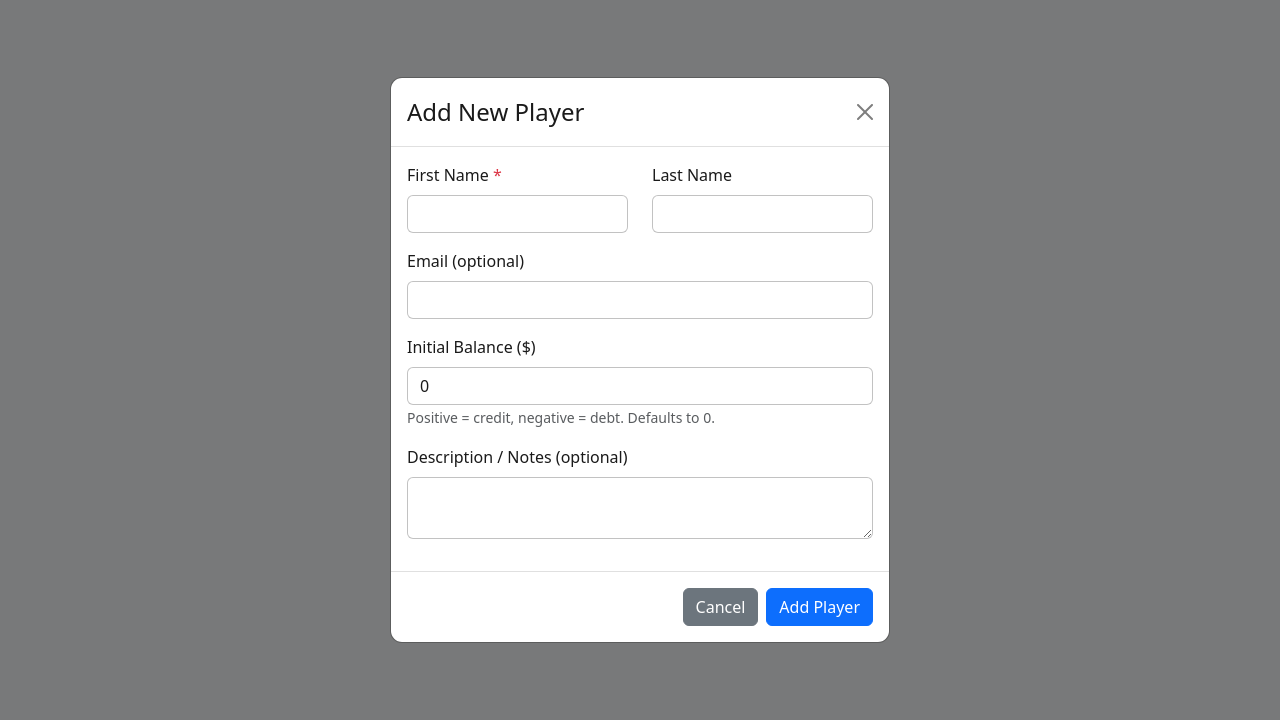
Test: AddPlayerModal › rejects an email already used by another player, since email drives link-request auto-matching
This screenshot has width=1280, height=720.
In the field labelled "First Name *": (518, 214) [407,195,628,233], type "Grace"
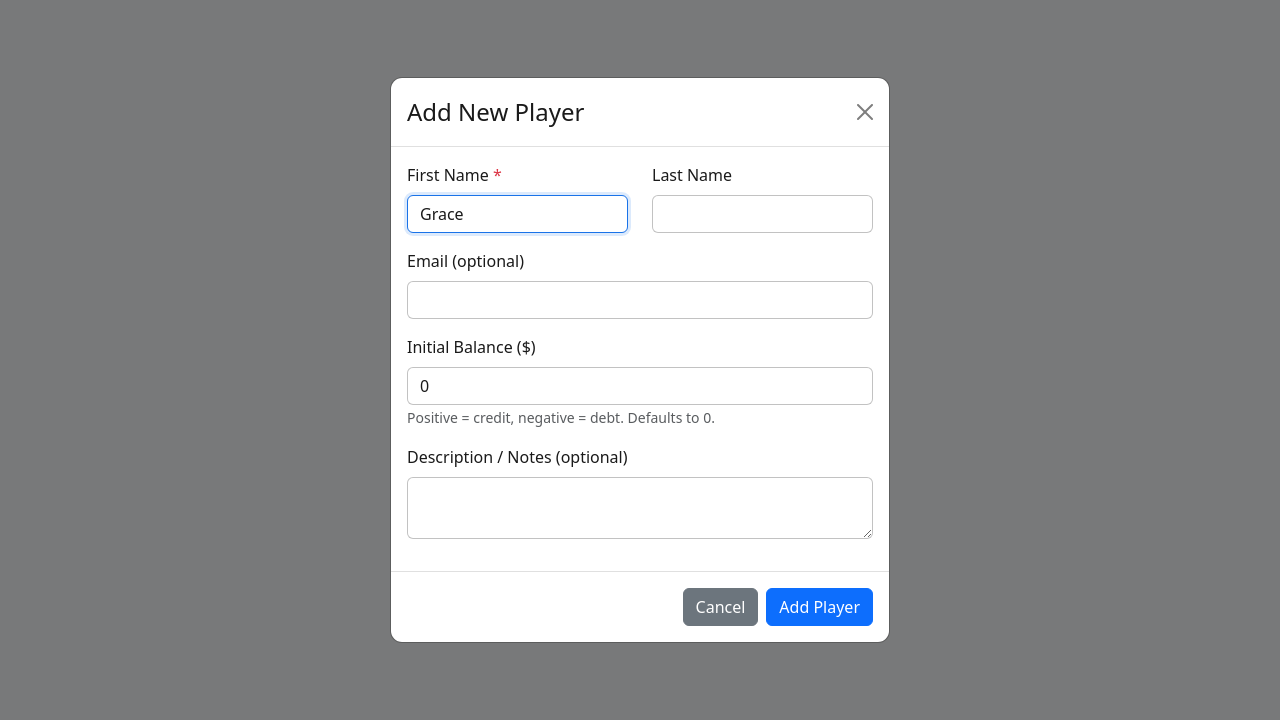
In the field labelled "Email (optional)": (640, 300) [407,281,873,319], type "ADA@example.com"
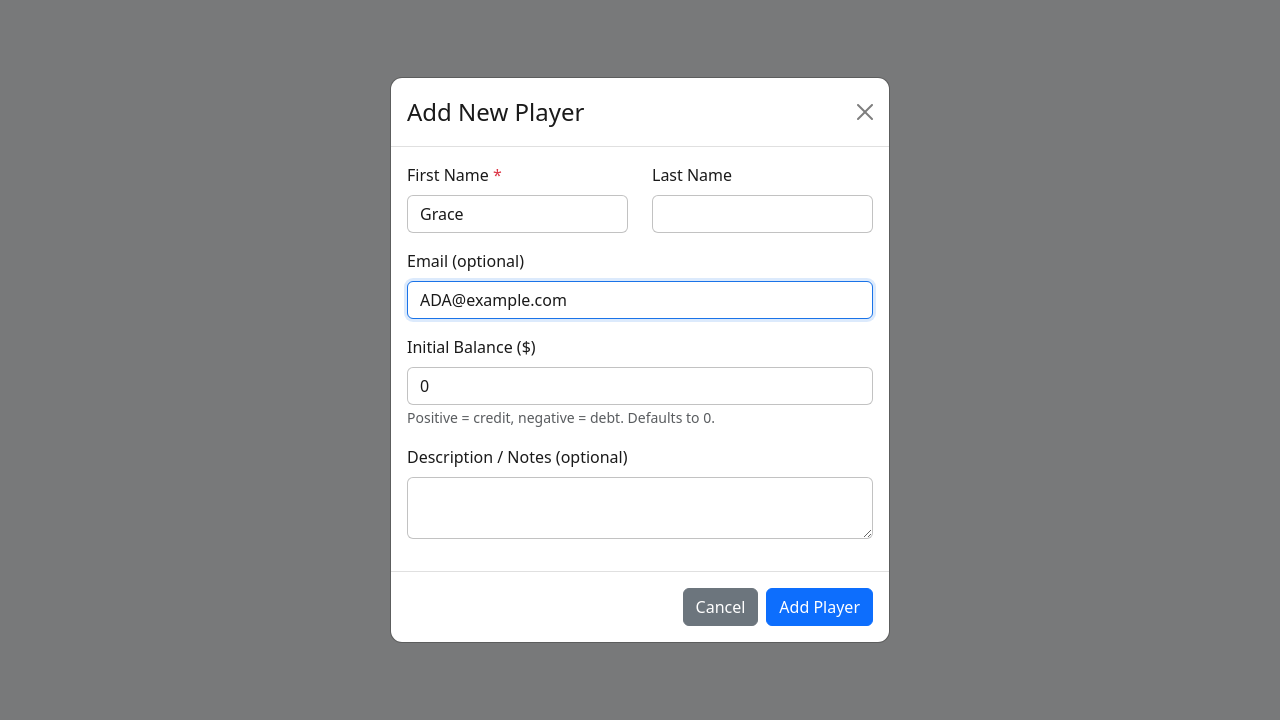
Click the button "Add Player": click(820, 607) [766,588,873,626]
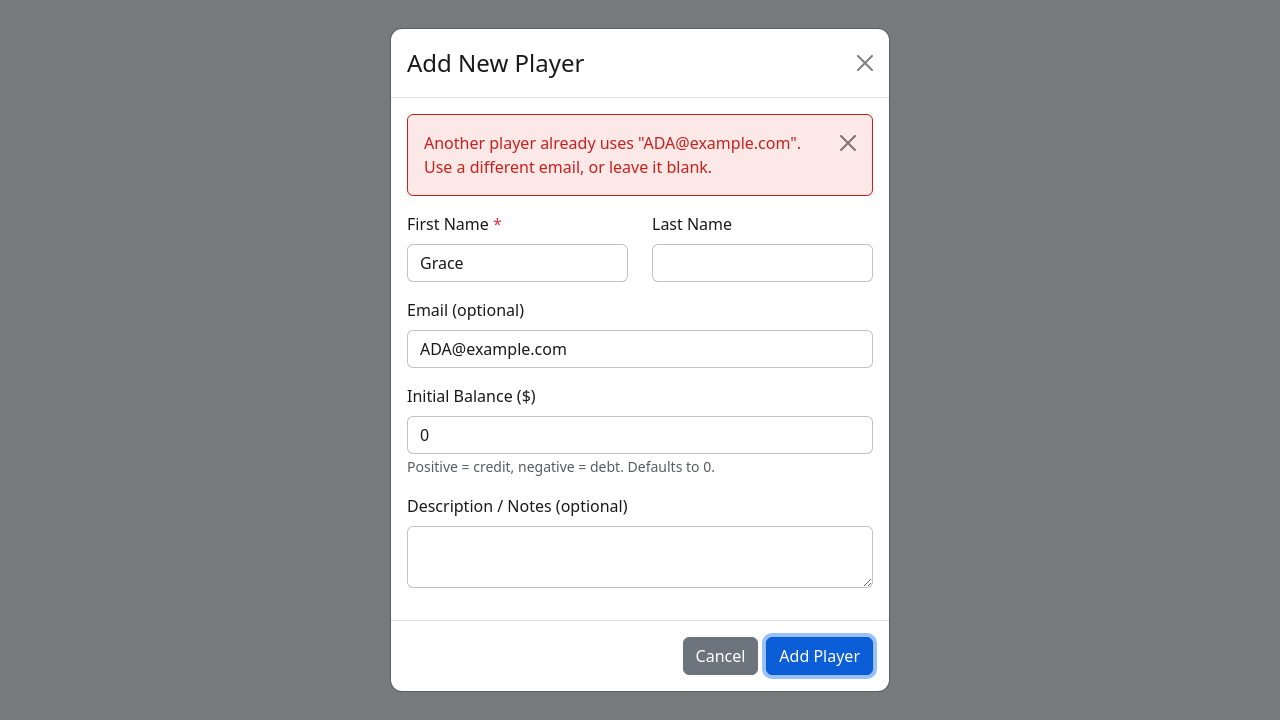
Result: the text "Another player already uses \"ADA@example.com\"" is shown at [424,132,801,178]
